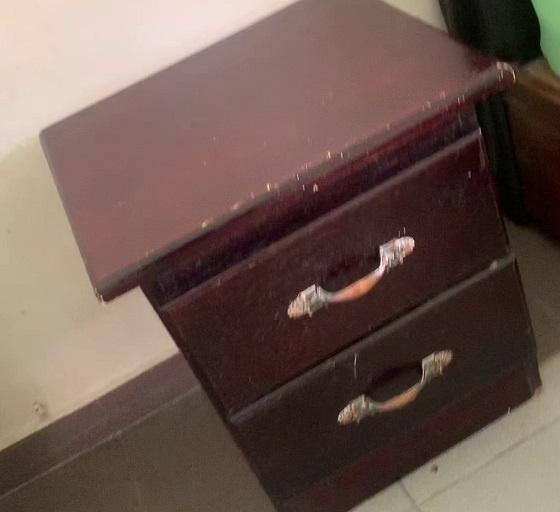cabinet_door: (146, 206, 532, 332), (248, 331, 521, 468)
handle: (284, 234, 421, 320), (333, 347, 457, 429)
